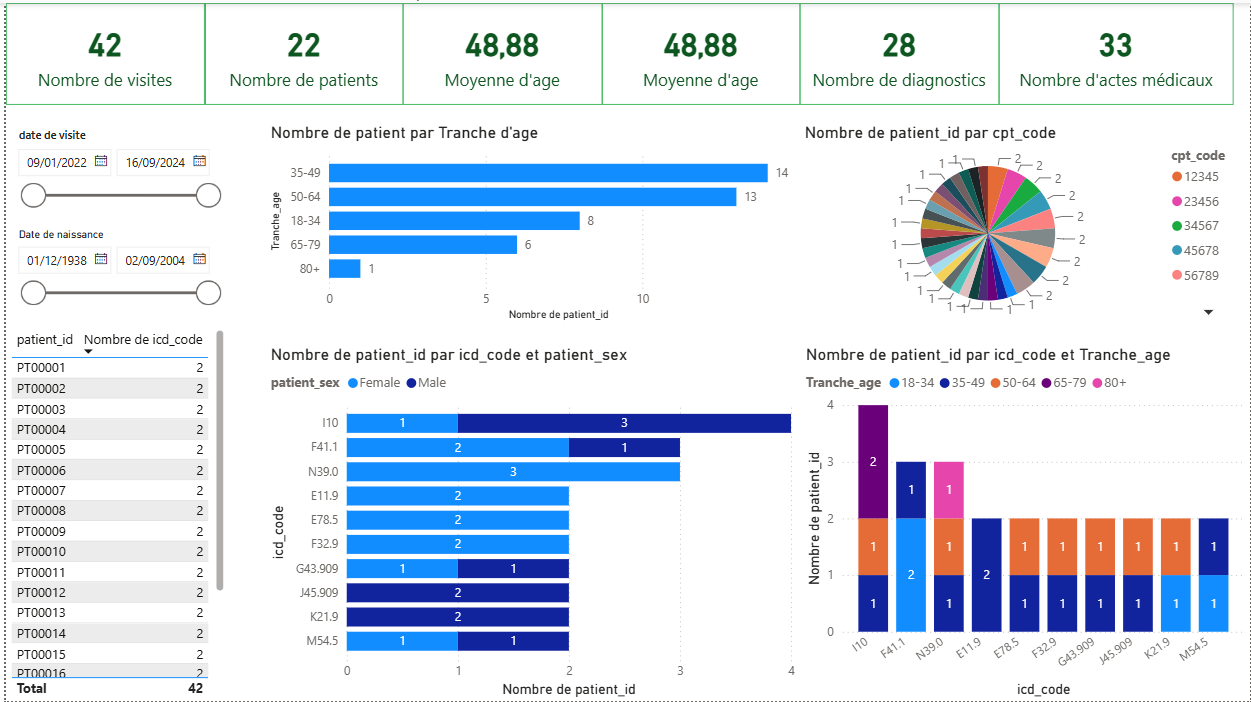

The page's visual inventory and layout, read from the dashboard file:
{"tool":"powerbi","page":{"name":"Page 1","canvas":[1280,720],"ordinal":0},"visuals":[{"type":"card","fields":{"Values":["CountNonNull(patient_visits.visit_id)"]},"box":[0,0,204.6,104.8],"z":0},{"type":"card","fields":{"Values":["Avg(patient_visits.patient_age)"]},"box":[408.6,0,205,104.7],"z":1},{"type":"card","fields":{"Values":["Count(patient_visits.patient_id)"]},"box":[205,0,203.6,104.7],"z":2},{"type":"card","fields":{"Values":["Count(patient_visits.icd_code)"]},"box":[817.2,0,205,104.7],"z":3},{"type":"card","fields":{"Values":["Avg(patient_visits.patient_age)"]},"box":[613.6,0,203.6,104.7],"z":4},{"type":"slicer","fields":{"Values":["patient_visits.visit_date"]},"box":[0,123.6,229.8,103.2],"z":5},{"type":"slicer","fields":{"Values":["patient_visits.date_of_birth"]},"box":[0,226.8,229.8,104.7],"z":6},{"type":"card","fields":{"Values":["Count(patient_visits.cpt_code)"]},"box":[1022.3,0,241.4,104.7],"z":7},{"type":"barChart","title":"Nombre de patient par Tranche d''age","fields":{"Category":["patient_visits.Tranche_age"],"Y":["CountNonNull(patient_visits.patient_id)"]},"box":[267.6,123.6,549.7,207.9],"z":8},{"type":"barChart","fields":{"Category":["patient_visits.icd_code"],"Y":["CountNonNull(patient_visits.patient_id)"],"Series":["patient_visits.patient_sex"]},"box":[267.6,351.9,549.7,367.9],"z":10},{"type":"tableEx","fields":{"Values":["patient_visits.patient_id","CountNonNull(patient_visits.icd_code)"]},"box":[0,331.5,229.8,388.3],"z":11},{"type":"pieChart","fields":{"Category":["patient_visits.cpt_code"],"Y":["CountNonNull(patient_visits.patient_id)"]},"box":[817.2,123.6,462.4,207.9],"z":12},{"type":"columnChart","fields":{"Category":["patient_visits.icd_code"],"Series":["patient_visits.Tranche_age"],"Y":["CountNonNull(patient_visits.patient_id)"]},"box":[818,352,461,368],"z":13}]}

Visuals, with their boxes in screenshot pixels (x1, y1, x2, y2), scaled from the page's 1280x720 canvas onto the 1251x702 screenshot:
card - CountNonNull(patient_visits.visit_id): BBox(0, 0, 200, 102)
card - Avg(patient_visits.patient_age): BBox(399, 0, 600, 102)
card - Count(patient_visits.patient_id): BBox(200, 0, 399, 102)
card - Count(patient_visits.icd_code): BBox(799, 0, 999, 102)
card - Avg(patient_visits.patient_age): BBox(600, 0, 799, 102)
slicer - patient_visits.visit_date: BBox(0, 121, 225, 221)
slicer - patient_visits.date_of_birth: BBox(0, 221, 225, 323)
card - Count(patient_visits.cpt_code): BBox(999, 0, 1235, 102)
"Nombre de patient par Tranche d''age" barChart: BBox(262, 121, 799, 323)
barChart - patient_visits.icd_code x CountNonNull(patient_visits.patient_id): BBox(262, 343, 799, 701)
tableEx - patient_visits.patient_id x CountNonNull(patient_visits.icd_code): BBox(0, 323, 225, 701)
pieChart - patient_visits.cpt_code x CountNonNull(patient_visits.patient_id): BBox(799, 121, 1250, 323)
columnChart - patient_visits.icd_code x patient_visits.Tranche_age: BBox(799, 343, 1250, 701)
